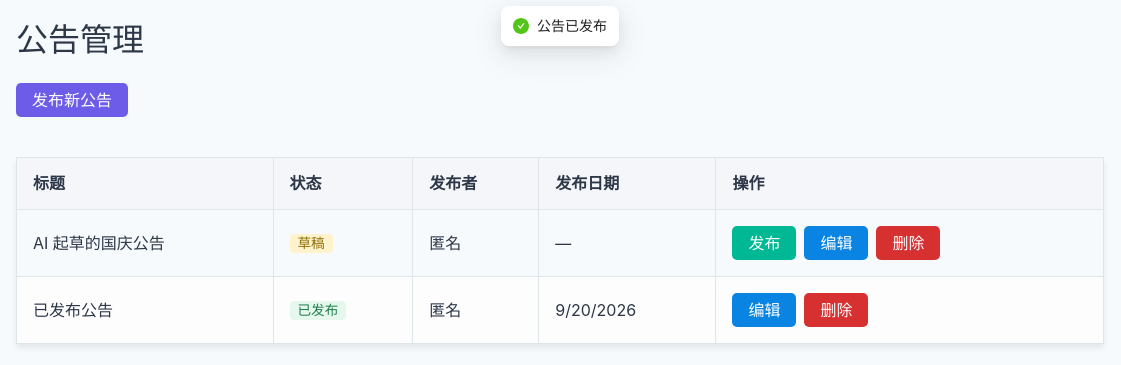
Test case: ManageAnnouncementsPage 草稿与发布 › 已被他人发布(409)时提示并刷新
The image size is (1121, 365).
Expected: the text "AI 起草的国庆公告" is shown, [16,209,273,276]
Step 1. Click the button "发布" → (764,243), box [732,226,796,260]
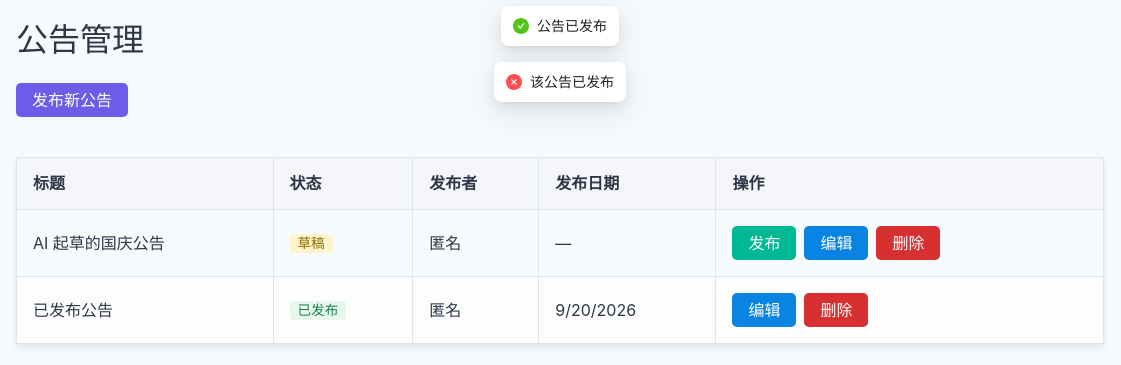
Expected: the text "该公告已发布" is shown, [530,71,614,93]
